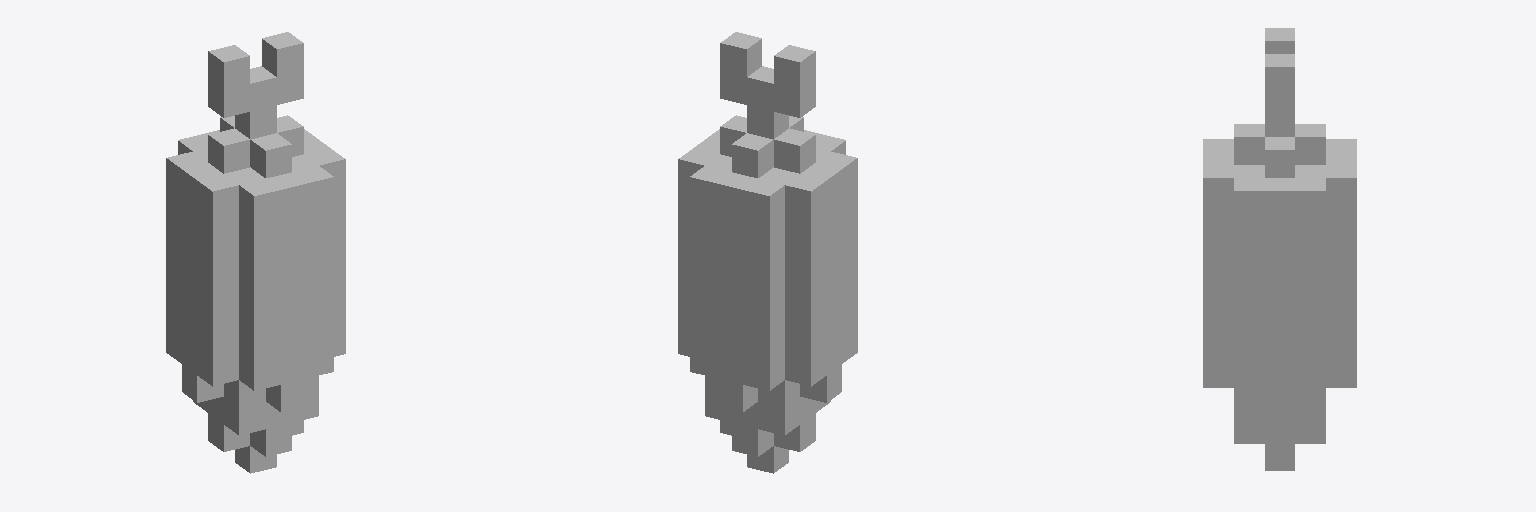
Rendered from carrot.obj.
3 renders of one model, left to right at view 1: azimuth 30°, elevation 25°; view 2: azimuth 150°, elevation 25°; view 3: azimuth 270°, elevation 25°, orthographic.
Visible parts, largest first — view 1: object 1; view 2: object 1; view 3: object 1.
Part boxes in pixels (left/top/right/bottom): object 1: left=166, top=32, right=345, bottom=473; object 1: left=678, top=32, right=857, bottom=473; object 1: left=1203, top=28, right=1356, bottom=470.
Bounding box in the file's own units: 0.5 × 1.5 × 0.5.